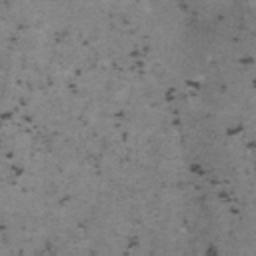Oxide scale of temperature system: (0, 14, 256, 256), (178, 0, 256, 66), (127, 235, 139, 249)
